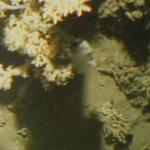alive: (5, 2, 146, 145)
